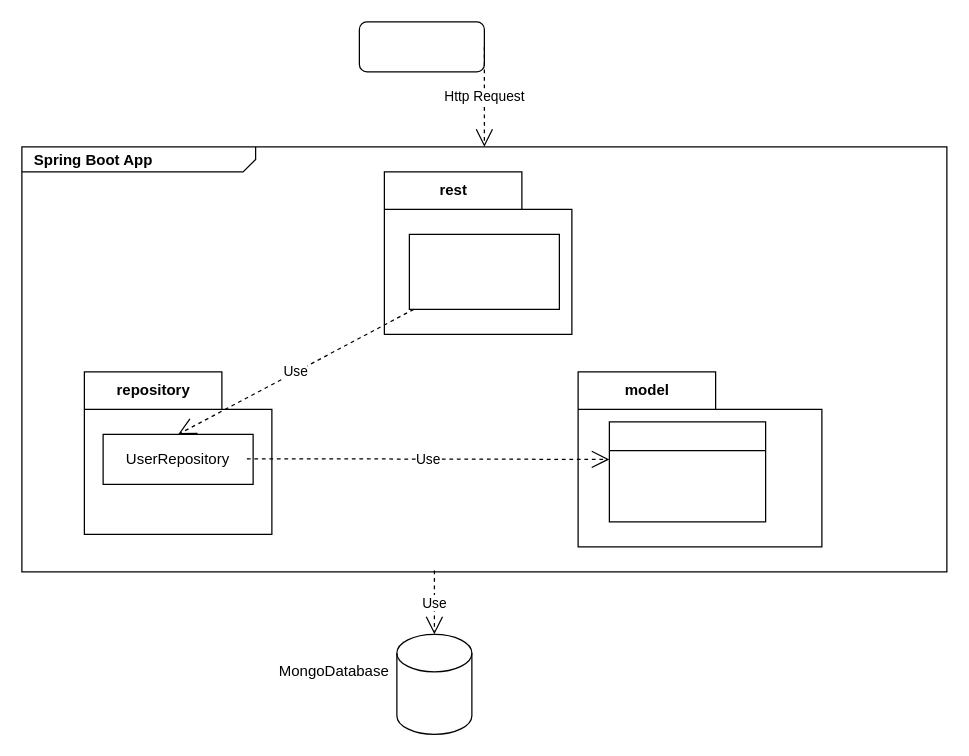
The diagram is 969 pixels wide and 756 high, and some of its shapes have lost their labels. The centre of each missing label's shape, as x and y in pixels:
Client: (421,46)
User Entity: (687,471)
UserController: (483,271)
